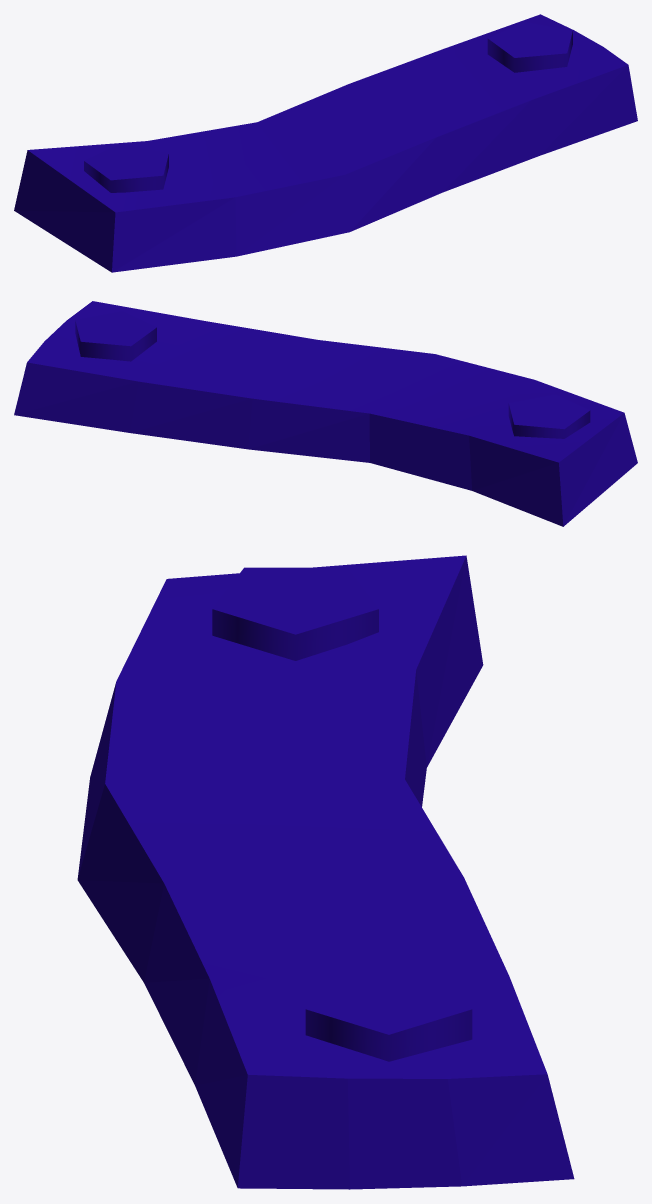
The model's file is CG_Model_TownInt_MetalPlate3_Mar24_ChrisMcknight.FBX.
The picture shows the model from 3 angles, top to bottom: view 1: azimuth 30°, elevation 25°; view 2: azimuth 150°, elevation 25°; view 3: azimuth 270°, elevation 25°; orthographic projection. The views are drawn at different scales.
Visible parts, largest first — view 1: Object012; view 2: Object012; view 3: Object012.
Boxes of the visible parts, box(x1,y1,x2,y2) form: Object012: box(14, 14, 637, 272); Object012: box(14, 301, 637, 526); Object012: box(77, 555, 574, 1189).
Bounding box in the file's own units: 9.14 × 1.05 × 3.66.
